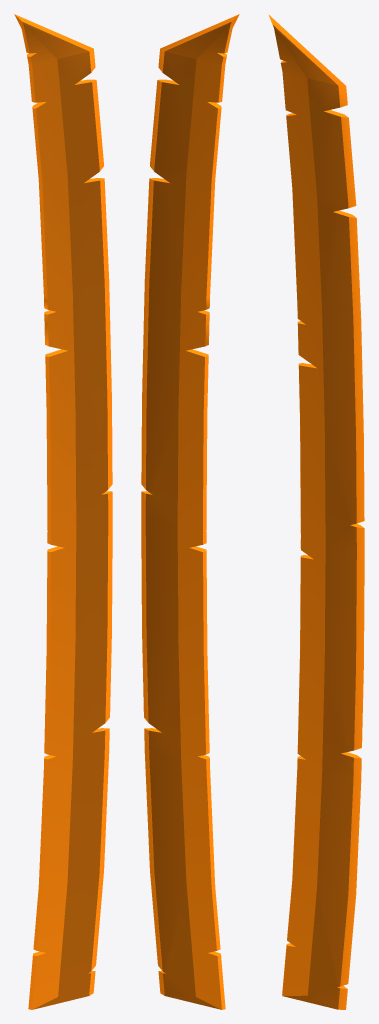
Rendered from bronze_blade_scratched_037.glb.
3 views of the same model, side by side, from view 1: azimuth 30°, elevation 25°; view 2: azimuth 150°, elevation 25°; view 3: azimuth 330°, elevation 25° (orthographic). The views are drawn at different scales.
Parts seen in each view (by area): view 1: bronze_blade_scratched.037; view 2: bronze_blade_scratched.037; view 3: bronze_blade_scratched.037.
Part boxes in pixels (x1,y1,x2,y2): bronze_blade_scratched.037: [14, 14, 112, 1009]; bronze_blade_scratched.037: [141, 14, 239, 1009]; bronze_blade_scratched.037: [268, 14, 364, 1009].
Bounding box in the file's own units: 1.22 × 11.77 × 0.0749.
Materials: 1 (1 with a texture image).
